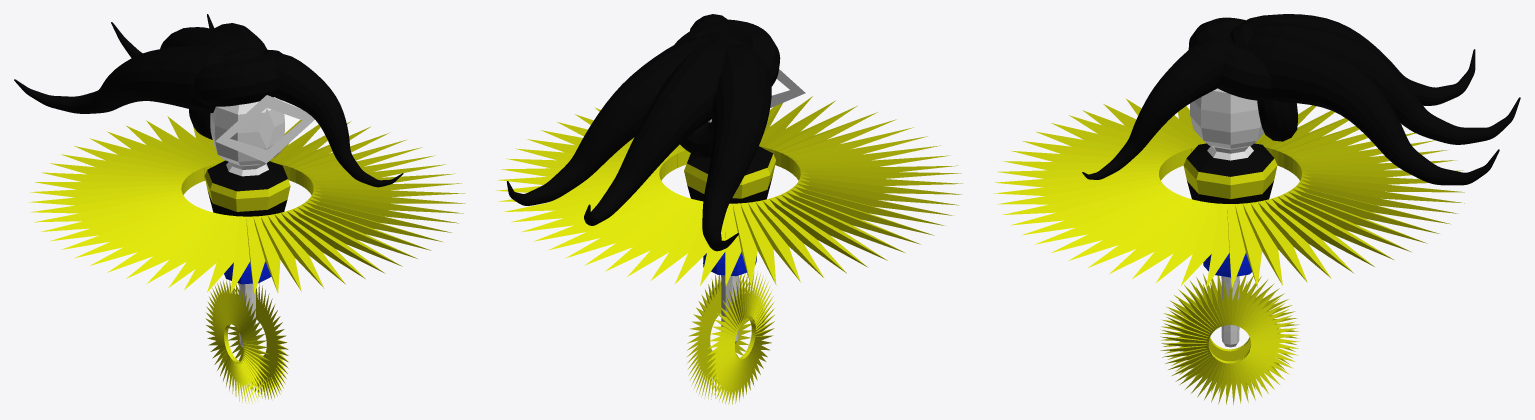
Rendered from JustKiller.fbx.
The picture shows the model from 3 angles, left to right: view 1: azimuth 30°, elevation 25°; view 2: azimuth 150°, elevation 25°; view 3: azimuth 270°, elevation 25°; orthographic projection. The views are drawn at different scales.
Visible parts, largest first — view 1: Cube.001, Torus.003, Cube.002; view 2: Cube.001, Torus.003, Cube.002; view 3: Cube.001, Torus.003, Cube.002.
Part boxes in pixels (box(x1,y1,x2,y2)): Cube.001: box(28, 116, 465, 293); Torus.003: box(14, 14, 403, 347); Cube.002: box(205, 279, 288, 403); Cube.001: box(495, 96, 962, 286); Torus.003: box(507, 14, 805, 343); Cube.002: box(686, 271, 775, 404); Cube.001: box(994, 99, 1464, 288); Torus.003: box(1082, 14, 1520, 347); Cube.002: box(1160, 274, 1299, 405).
Bounding box in the file's own units: 259 × 225 × 287.
